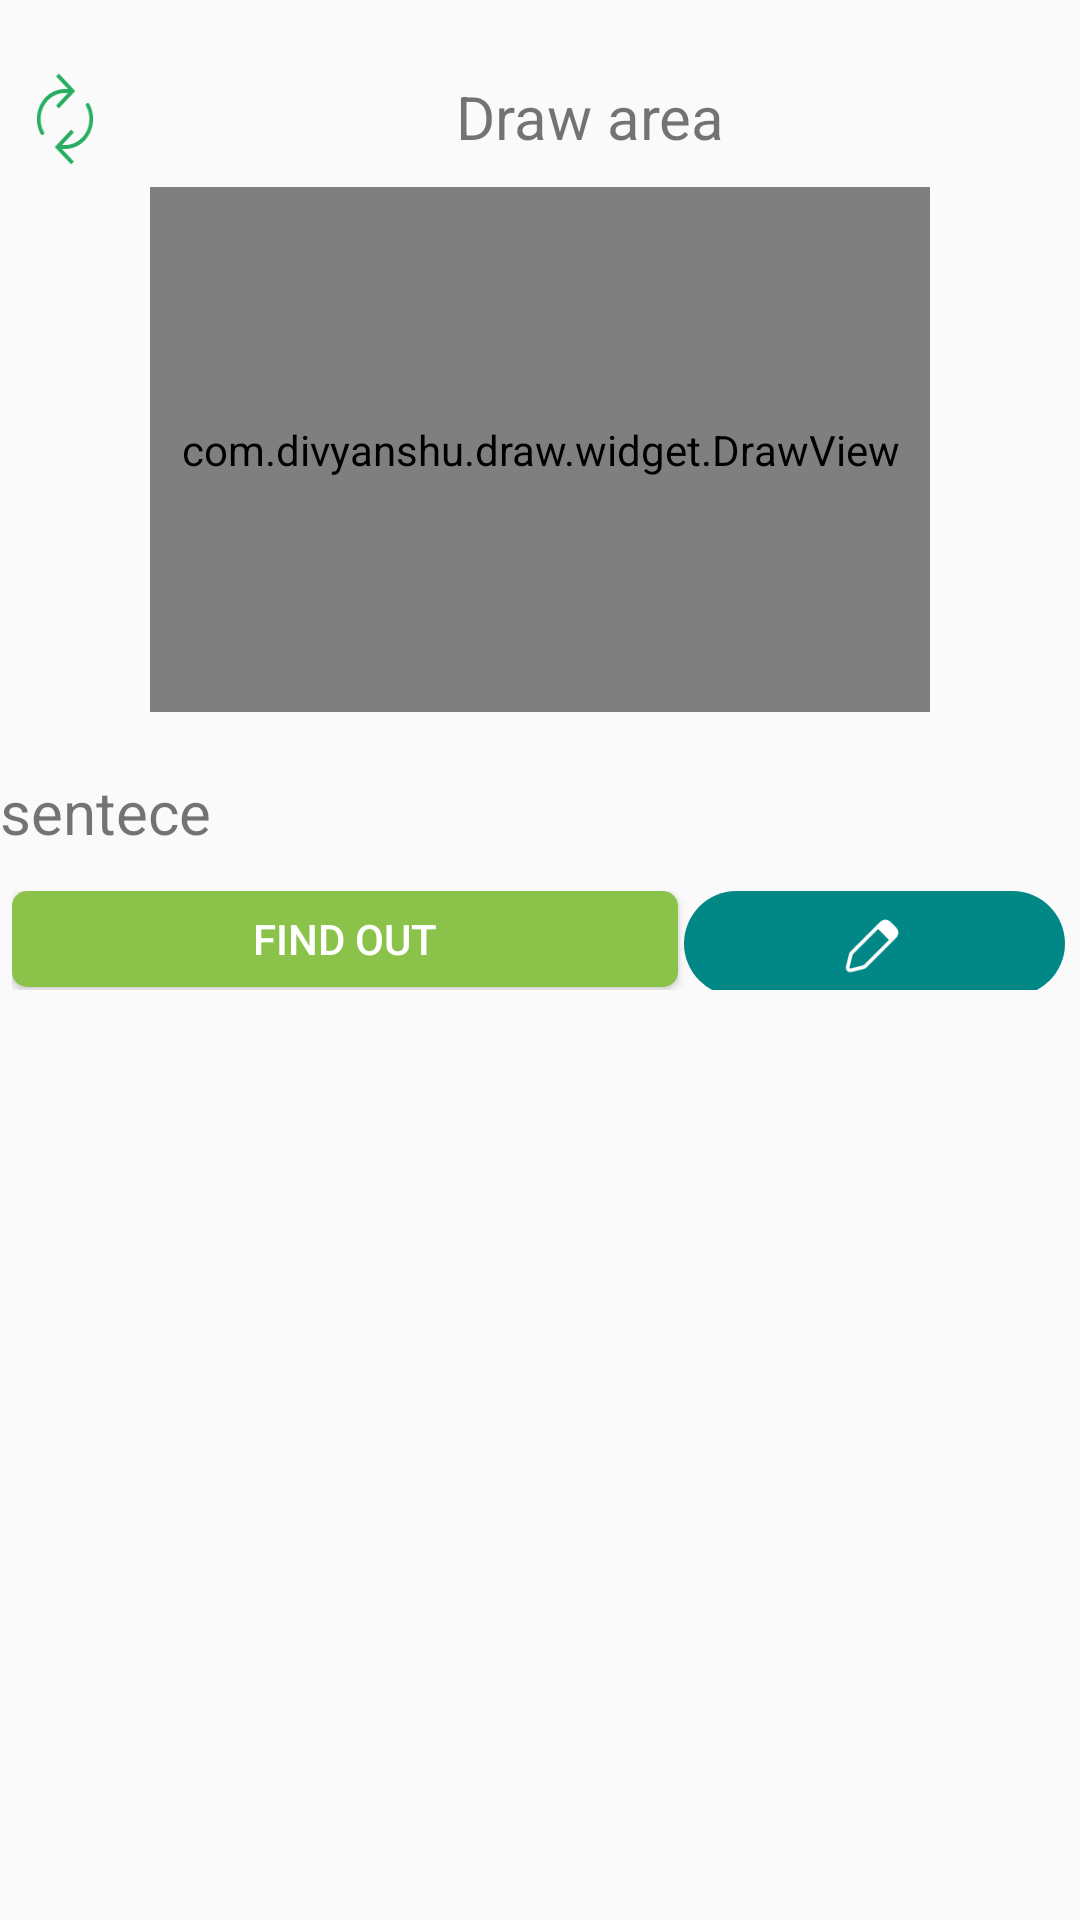

Icons on this 1080×1920 Android screen, each with the point to tap as (x,y):
refresh: (65,119)
tulis: (872,946)
